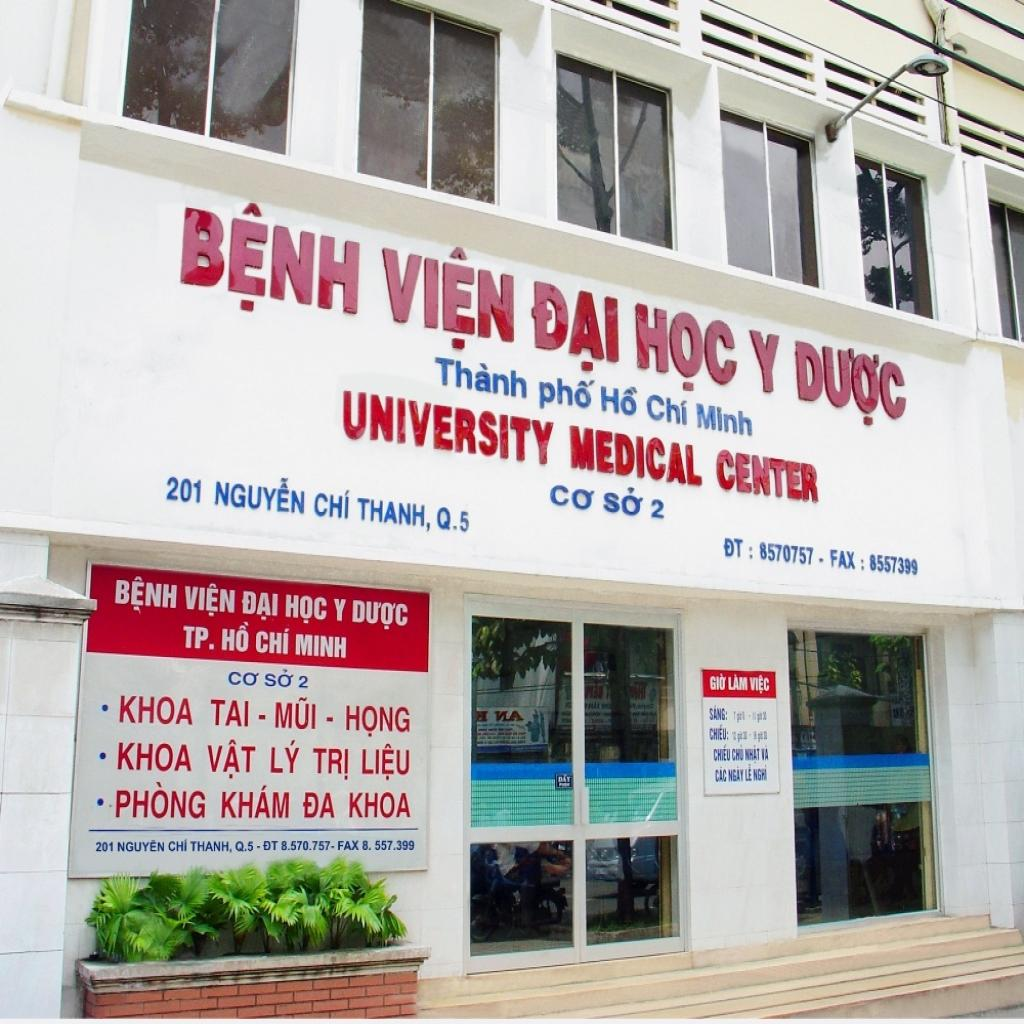text: (168, 185, 370, 333), (374, 230, 520, 358), (339, 387, 556, 468), (629, 288, 739, 402), (790, 334, 912, 435), (525, 265, 623, 378), (567, 419, 707, 489), (713, 444, 823, 504), (432, 351, 532, 402), (212, 473, 309, 519), (113, 779, 210, 825), (110, 572, 181, 620), (353, 494, 435, 535), (219, 780, 292, 824), (692, 395, 758, 441), (744, 324, 784, 399), (535, 367, 597, 415), (114, 738, 196, 774), (178, 576, 240, 623), (347, 595, 415, 637), (116, 692, 196, 726), (644, 386, 695, 434), (344, 704, 412, 739), (203, 738, 257, 782), (360, 742, 412, 786), (346, 789, 414, 821), (596, 377, 642, 423), (282, 590, 330, 631), (238, 585, 282, 627), (757, 538, 816, 568), (272, 695, 318, 733), (602, 484, 646, 522), (291, 633, 348, 662), (310, 744, 352, 783), (866, 552, 922, 580), (549, 480, 597, 512), (266, 738, 304, 778), (254, 622, 293, 660), (162, 472, 204, 507), (435, 503, 473, 540), (312, 487, 352, 522), (209, 698, 252, 730), (218, 619, 253, 658), (302, 787, 339, 822), (178, 622, 217, 654), (277, 836, 332, 856), (359, 837, 418, 855), (190, 838, 236, 858), (829, 546, 859, 576), (262, 667, 298, 692), (116, 838, 166, 856), (328, 591, 350, 628), (226, 668, 261, 690), (720, 535, 745, 561), (647, 496, 668, 522), (749, 674, 771, 696), (336, 835, 361, 854), (709, 721, 730, 743), (93, 838, 116, 858), (727, 672, 749, 692), (166, 837, 190, 855), (712, 743, 732, 764), (234, 837, 256, 855), (744, 744, 762, 766), (708, 672, 727, 692), (727, 764, 746, 784), (708, 704, 729, 722), (260, 837, 280, 855), (730, 743, 746, 763), (297, 671, 311, 691), (714, 766, 728, 784), (760, 743, 771, 763), (744, 762, 754, 783), (556, 773, 572, 784)
